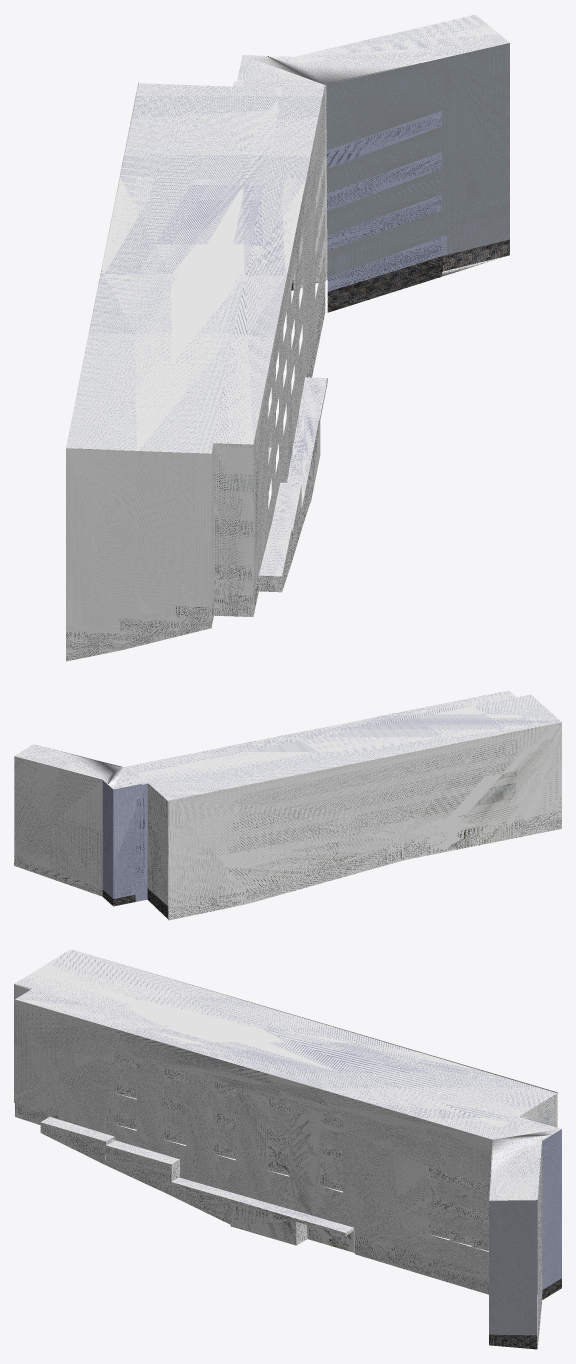
Rendered from Ciencias Jurídicas Aulario.fbx.
The picture shows the model from 3 angles, top to bottom: view 1: azimuth 30°, elevation 25°; view 2: azimuth 150°, elevation 25°; view 3: azimuth 270°, elevation 25°; orthographic projection. The views are drawn at different scales.
Visible parts, largest first — view 1: Group1, Group6, Group5; view 2: Group1, Group6, Group5; view 3: Group1, Group6, Group5, Group7, Group3.
Boxes of the visible parts, box(x1,y1,x2,y2) form: Group1: box(66, 14, 509, 661); Group6: box(66, 83, 282, 453); Group5: box(212, 81, 324, 444); Group1: box(14, 694, 561, 920); Group6: box(138, 694, 561, 801); Group5: box(123, 690, 516, 784); Group1: box(14, 964, 561, 1349); Group6: box(15, 949, 557, 1127); Group5: box(15, 989, 527, 1139); Group7: box(106, 1145, 171, 1175); Group3: box(307, 1222, 354, 1252).
Size of the model in its own units: 56.43 by 17.19 by 52.19.
